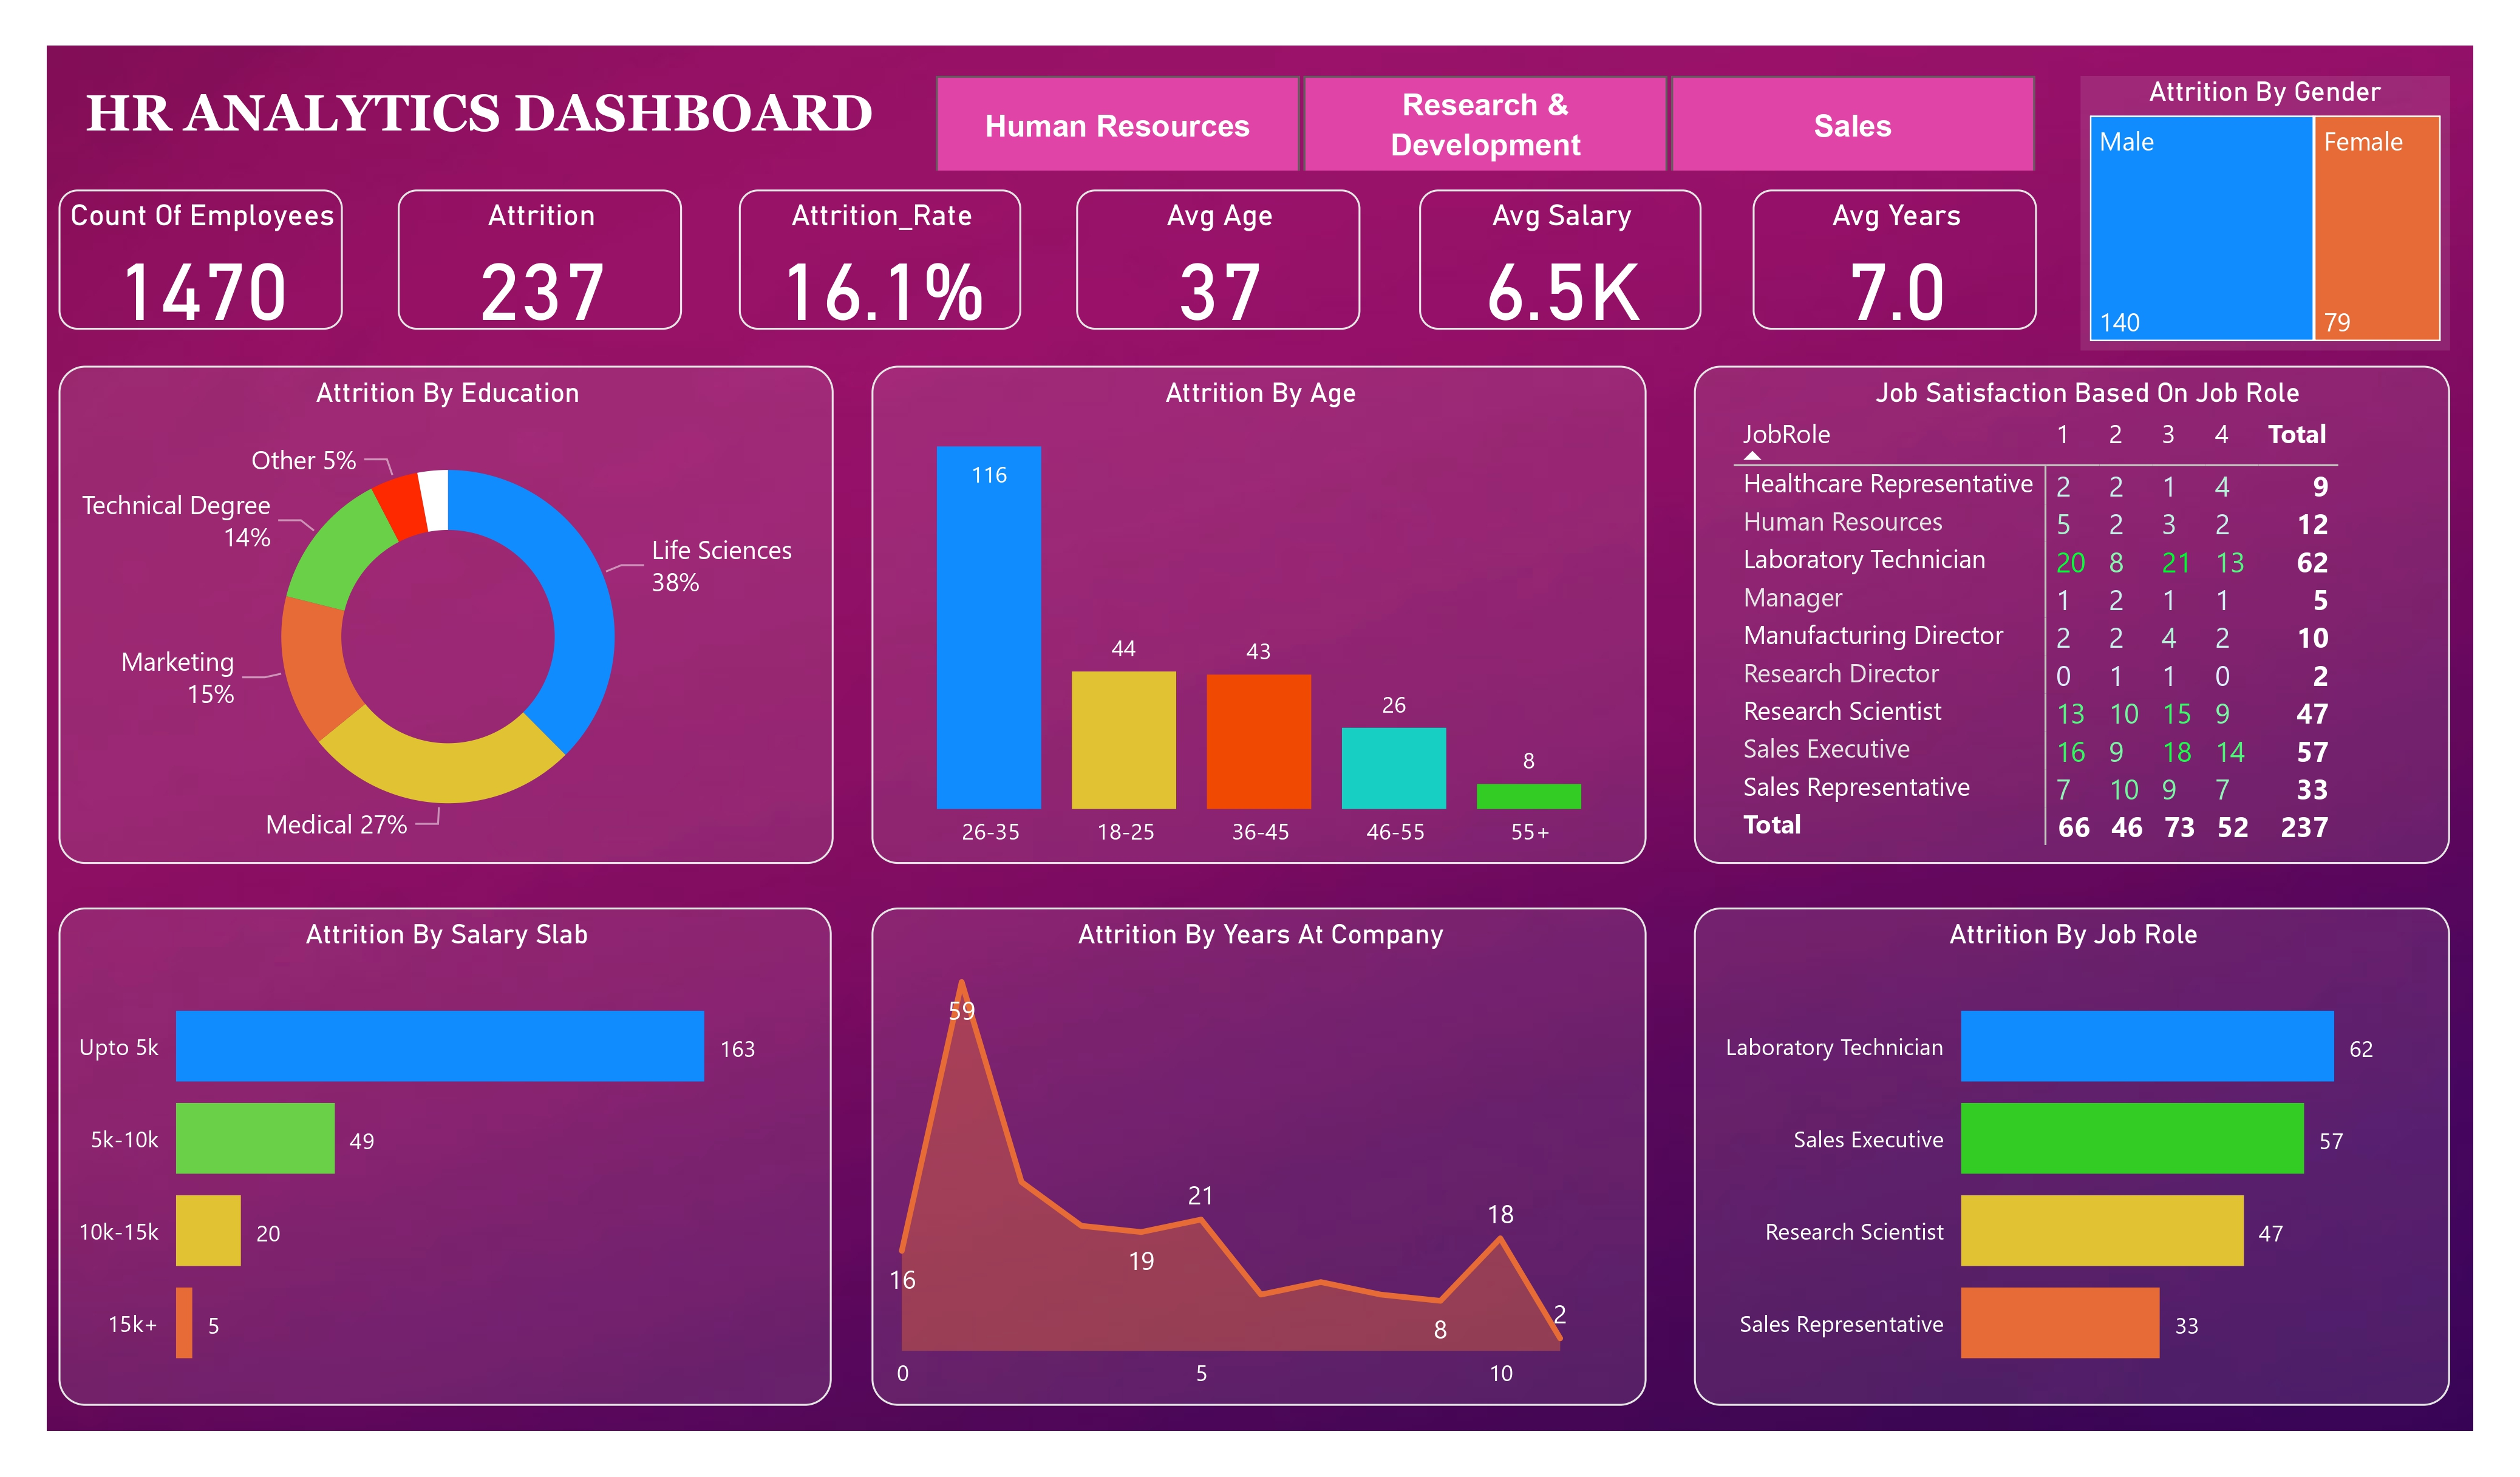

This screenshot's page, from the dashboard's own definition file:
{"tool":"powerbi","page":{"name":"Page 1","canvas":[1280,731],"ordinal":0},"visuals":[{"type":"card","title":"Count Of Employees","fields":{"Values":["CountNonNull(HR_Analytics.EmpID)"]},"box":[6.2,76.2,150,73.8],"z":0},{"type":"card","title":"Attrition","fields":{"Values":["Sum(HR_Analytics.Attrition_Count)"]},"box":[185,76.2,150,73.8],"z":1000},{"type":"card","title":"Attrition_Rate","fields":{"Values":["HR_Analytics.Attrition_Rate"]},"box":[365,76.2,148.8,73.8],"z":2000},{"type":"card","title":"Avg Age ","fields":{"Values":["Avg(HR_Analytics.Age)"]},"box":[542.9,75.7,150,74.3],"z":3000},{"type":"card","title":"Avg Salary","fields":{"Values":["Avg(HR_Analytics.MonthlyIncome)"]},"box":[724.3,75.7,148.6,74.3],"z":5000},{"type":"card","title":"Avg Years","fields":{"Values":["Avg(HR_Analytics.YearsAtCompany)"]},"box":[900,75.7,150,74.3],"z":6000},{"type":"donutChart","title":"Attrition By Education","fields":{"Category":["HR_Analytics.EducationField"],"Y":["Sum(HR_Analytics.Attrition_Count)"]},"box":[5.7,169.5,409.3,262.8],"z":7000},{"type":"columnChart","title":"Attrition By Age","fields":{"Y":["Sum(HR_Analytics.Attrition_Count)"],"Category":["HR_Analytics.AgeGroup"]},"box":[435.2,169.5,409.3,262.8],"z":8000},{"type":"pivotTable","title":"Job Satisfaction Based On Job Role","fields":{"Rows":["HR_Analytics.JobRole"],"Columns":["HR_Analytics.JobSatisfaction"],"Values":["Sum(HR_Analytics.Attrition_Count)"]},"box":[868.9,169.5,399.2,262.8],"z":9000},{"type":"barChart","title":"Attrition By Salary Slab","fields":{"Category":["HR_Analytics.SalarySlab"],"Y":["Sum(HR_Analytics.Attrition_Count)"]},"box":[5.7,455.3,407.9,262.8],"z":10000},{"type":"barChart","title":"Attrition By Job Role","fields":{"Y":["Sum(HR_Analytics.Attrition_Count)"],"Category":["HR_Analytics.JobRole"]},"box":[868.9,455.3,399.2,262.8],"z":11000},{"type":"areaChart","title":"Attrition By Years At Company","fields":{"Category":["HR_Analytics.YearsAtCompany"],"Y":["Sum(HR_Analytics.Attrition_Count)"]},"box":[435.2,455.3,409.3,262.8],"z":12000},{"type":"treemap","title":"Attrition By Gender","fields":{"Values":["Sum(HR_Analytics.Attrition_Count)"],"Group":["HR_Analytics.Gender"]},"box":[1072.8,15.8,195.3,145.1],"z":13000},{"type":"slicer","fields":{"Values":["HR_Analytics.Department"]},"box":[442.9,8.6,630,57.1],"z":14000},{"type":"textbox","box":[0,15.7,455.7,41.4],"z":15000}]}

Visuals, with their boxes on the page's 1280x731 design canvas (x1, y1, x2, y2). These are canvas units, not pixel positions in the 2520x1477 screenshot, which may show the page scaled, cropped or inside an application window:
"Count Of Employees" card: 6, 76, 156, 150
"Attrition" card: 185, 76, 335, 150
"Attrition_Rate" card: 365, 76, 514, 150
"Avg Age " card: 543, 76, 693, 150
"Avg Salary" card: 724, 76, 873, 150
"Avg Years" card: 900, 76, 1050, 150
"Attrition By Education" donutChart: 6, 170, 415, 432
"Attrition By Age" columnChart: 435, 170, 844, 432
"Job Satisfaction Based On Job Role" pivotTable: 869, 170, 1268, 432
"Attrition By Salary Slab" barChart: 6, 455, 414, 718
"Attrition By Job Role" barChart: 869, 455, 1268, 718
"Attrition By Years At Company" areaChart: 435, 455, 844, 718
"Attrition By Gender" treemap: 1073, 16, 1268, 161
slicer - HR_Analytics.Department: 443, 9, 1073, 66
textbox: 0, 16, 456, 57
